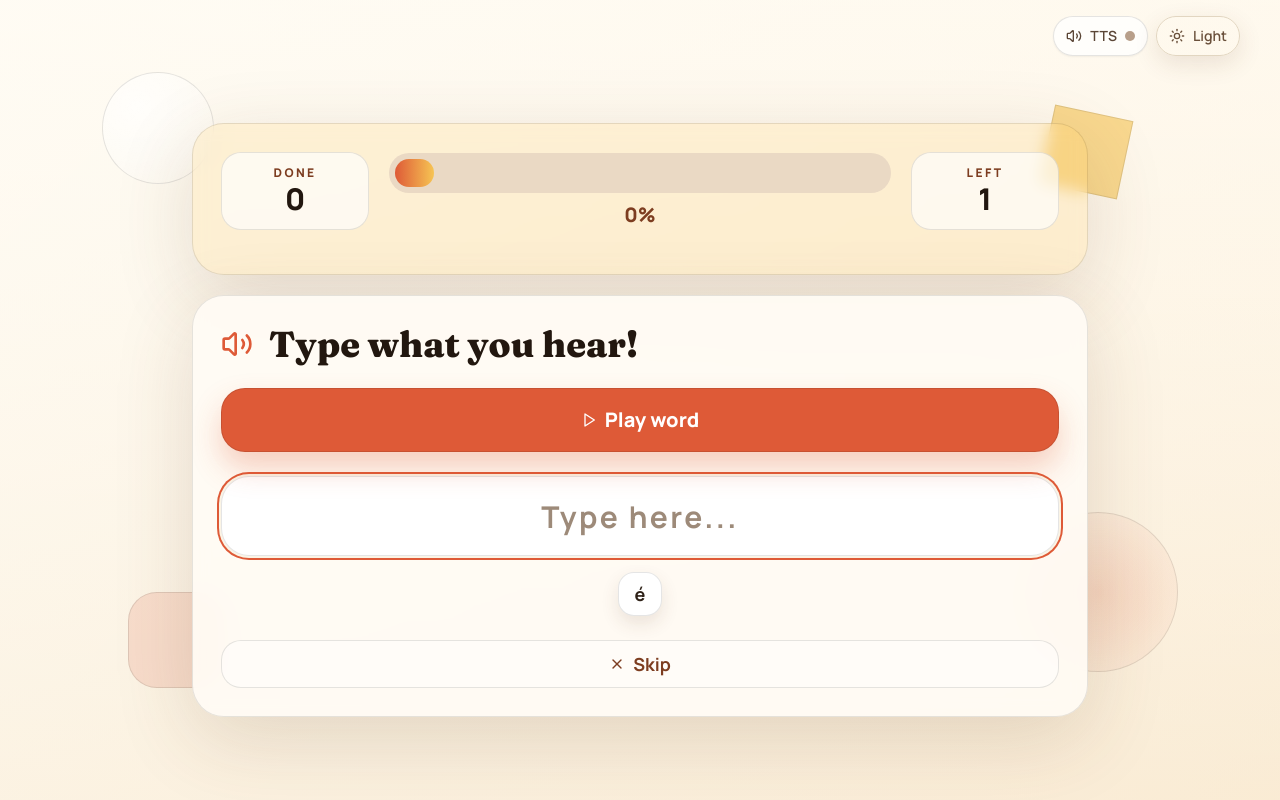
Test: QuestionScreen › inserts special character into input field when clicking special character button
In the field with placeholder "Type here...": point(640, 516) [221,476,1059,556], type "caf"
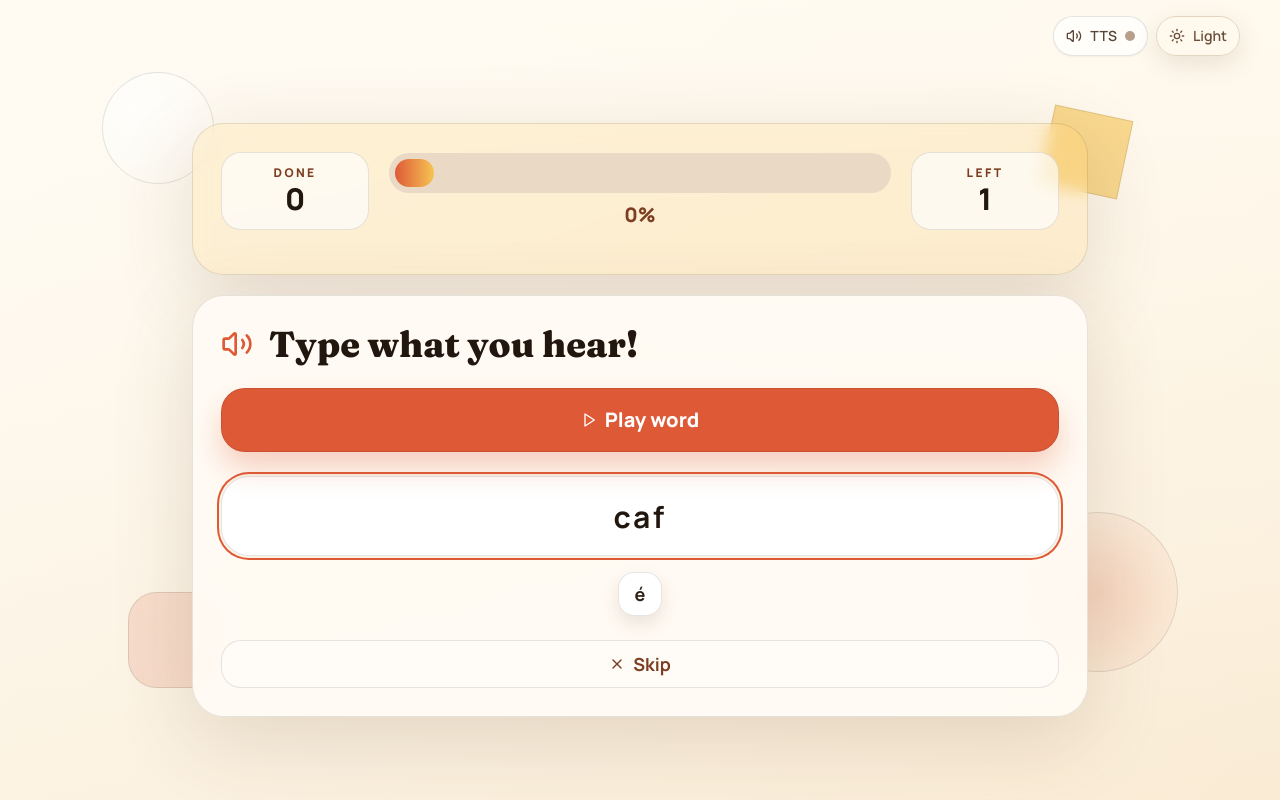
Click the button "é": point(640, 594) [618,572,662,616]
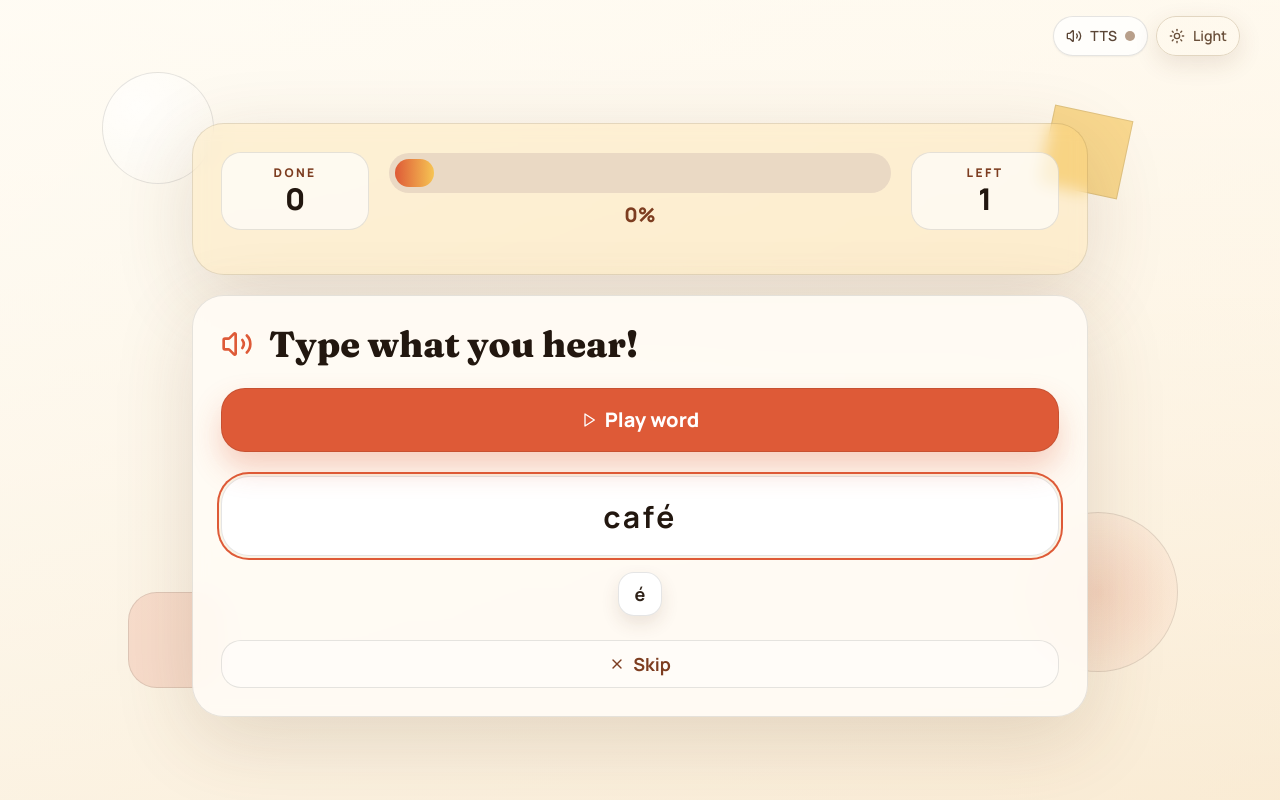
Check: the field with placeholder "Type here..." holds "café", box [221,476,1059,556]
